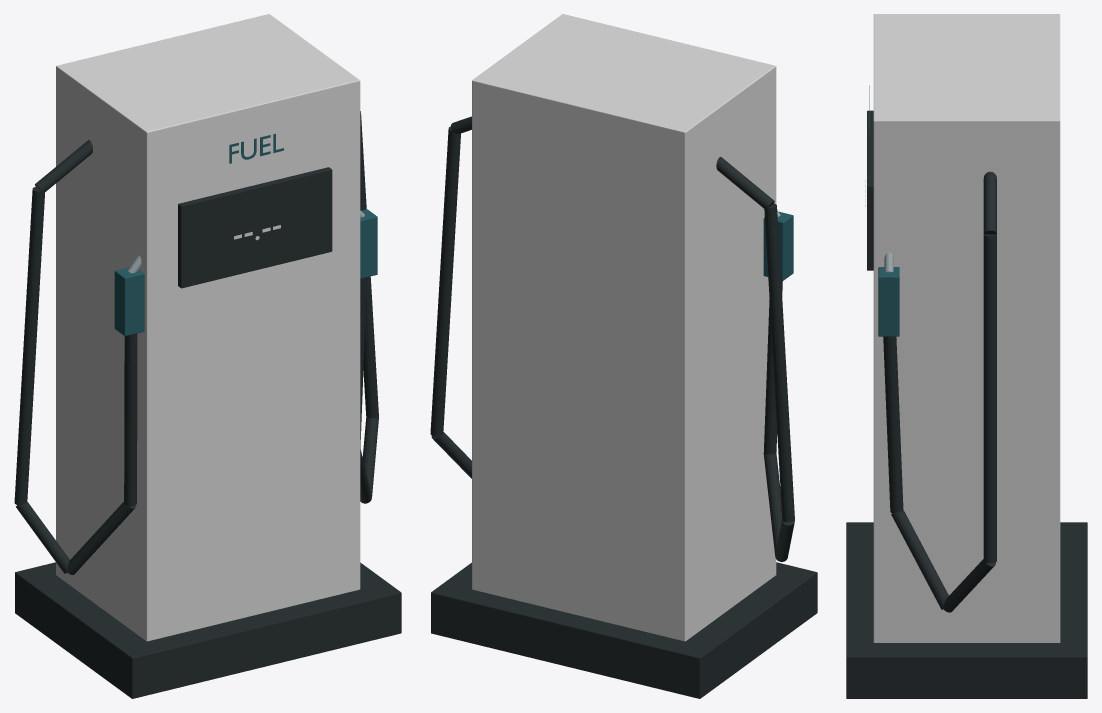
The model's file is petrol-pump.glb.
3 views of the same model, side by side, from view 1: azimuth 30°, elevation 25°; view 2: azimuth 150°, elevation 25°; view 3: azimuth 270°, elevation 25° (orthographic). The views are drawn at different scales.
Visible parts, largest first — view 1: Cabinet, Plinth, Meter, Fuel_Hose.001, Fuel_Hose.004, Nozzle, Fuel_Hose.006, Fuel_Hose.003, Nozzle.001, Fuel_Hose.002, Fuel_Hose, Fuel_Hose.007 (+1 smaller); view 2: Cabinet, Plinth, Fuel_Hose.001, Fuel_Hose.006, Fuel_Hose.004, Nozzle, Fuel_Hose.003, Fuel_Hose, Fuel_Hose.007; view 3: Cabinet, Plinth, Fuel_Hose.006, Fuel_Hose.009, Nozzle.001, Fuel_Hose.008, Meter, Fuel_Hose.007, Fuel_Hose.005.
Boxes of the visible parts, x1=… form: Cabinet: x1=56, y1=14, x2=360, y2=641; Plinth: x1=15, y1=562, x2=401, y2=698; Meter: x1=178, y1=167, x2=332, y2=288; Fuel_Hose.001: x1=14, y1=187, x2=44, y2=505; Fuel_Hose.004: x1=124, y1=333, x2=137, y2=506; Nozzle: x1=114, y1=267, x2=144, y2=336; Fuel_Hose.006: x1=360, y1=111, x2=378, y2=418; Fuel_Hose.003: x1=67, y1=502, x2=135, y2=574; Nozzle.001: x1=360, y1=209, x2=377, y2=278; Fuel_Hose.002: x1=16, y1=502, x2=69, y2=573; Fuel_Hose: x1=35, y1=140, x2=92, y2=192; Fuel_Hose.007: x1=362, y1=417, x2=378, y2=496; Cabinet: x1=472, y1=14, x2=776, y2=641; Plinth: x1=431, y1=562, x2=817, y2=698; Fuel_Hose.001: x1=764, y1=203, x2=794, y2=522; Fuel_Hose.006: x1=430, y1=126, x2=460, y2=436; Fuel_Hose.004: x1=763, y1=280, x2=782, y2=454; Nozzle: x1=763, y1=211, x2=793, y2=280; Fuel_Hose.003: x1=763, y1=453, x2=782, y2=555; Fuel_Hose: x1=716, y1=156, x2=774, y2=208; Fuel_Hose.007: x1=431, y1=432, x2=471, y2=478; Cabinet: x1=873, y1=14, x2=1060, y2=642; Plinth: x1=846, y1=522, x2=1087, y2=698; Fuel_Hose.006: x1=983, y1=234, x2=996, y2=563; Fuel_Hose.009: x1=883, y1=336, x2=903, y2=513; Nozzle.001: x1=878, y1=267, x2=899, y2=336; Fuel_Hose.008: x1=891, y1=510, x2=948, y2=609; Meter: x1=867, y1=110, x2=873, y2=270; Fuel_Hose.007: x1=943, y1=559, x2=995, y2=612; Fuel_Hose.005: x1=983, y1=171, x2=996, y2=234.
Size of the model in its own units: 1.1 by 1.6 by 0.62.
